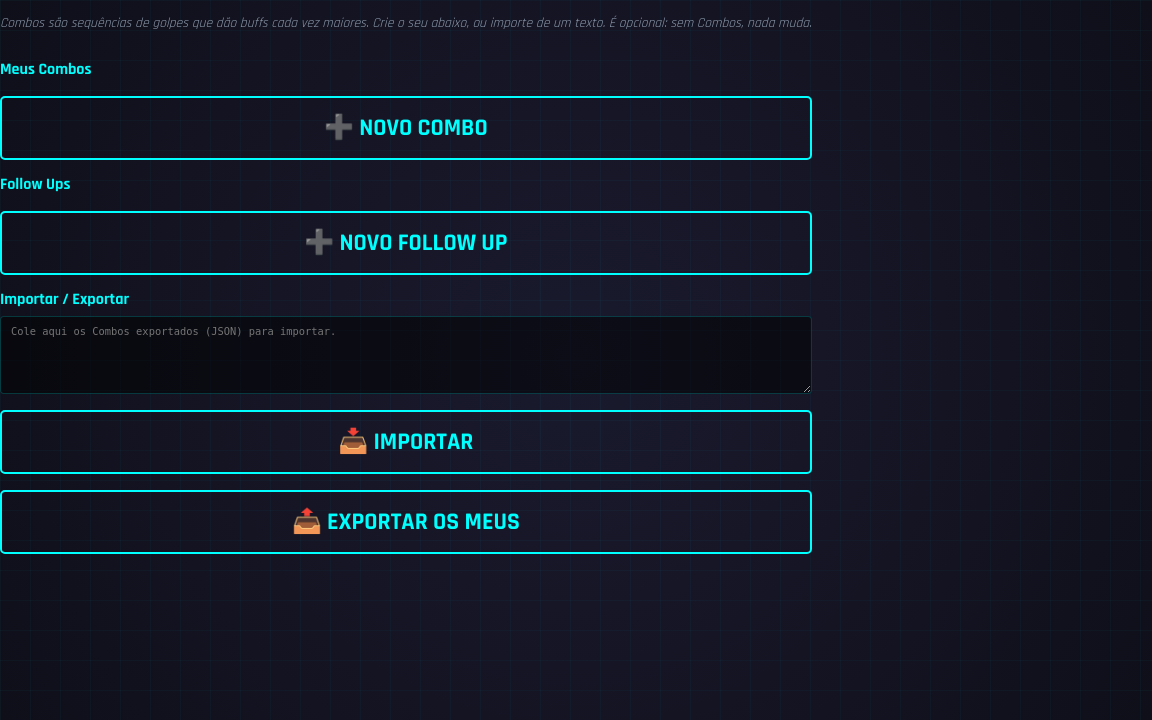
Test case: CombosPanel - criar › sem Combos mostra a explicação opcional e deixa criar um novo
Expected: the text "É opcional" is shown, [0,14,812,32]
Click the button "➕ Novo Combo": click(406, 128) [0,96,812,160]
(page scrolled)
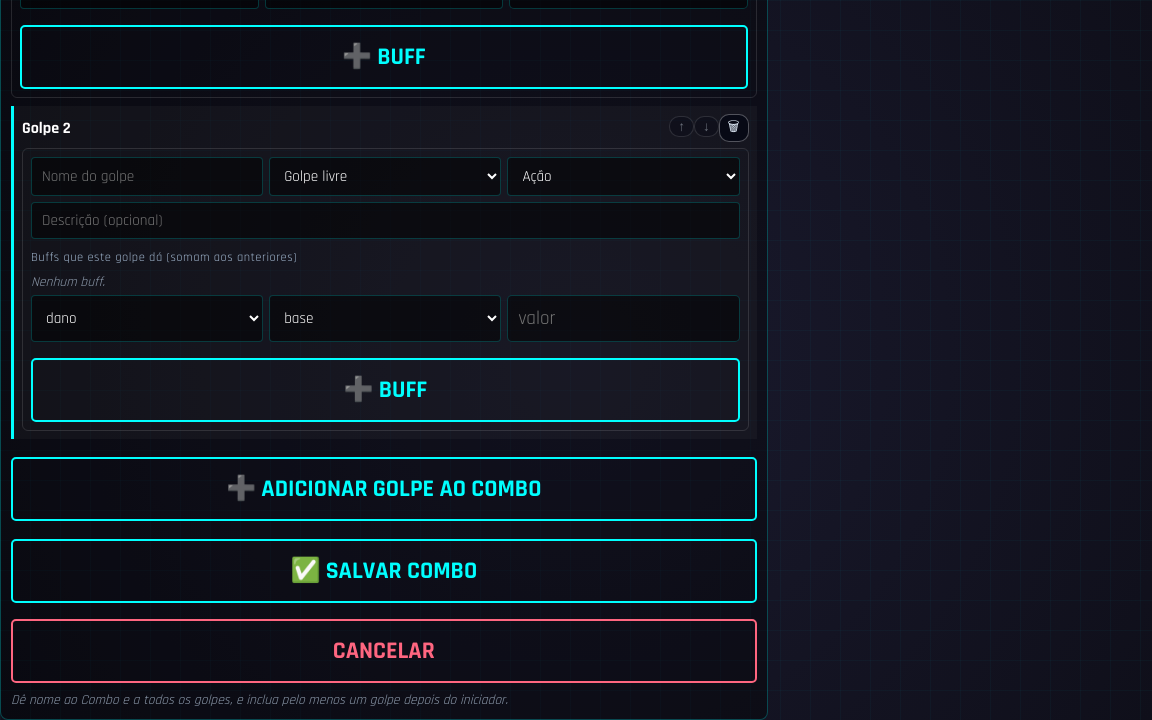
Expected: the element named "Editor de Combo" is shown
Expected: the button "✅ Salvar Combo" is disabled, [11,539,757,603]
